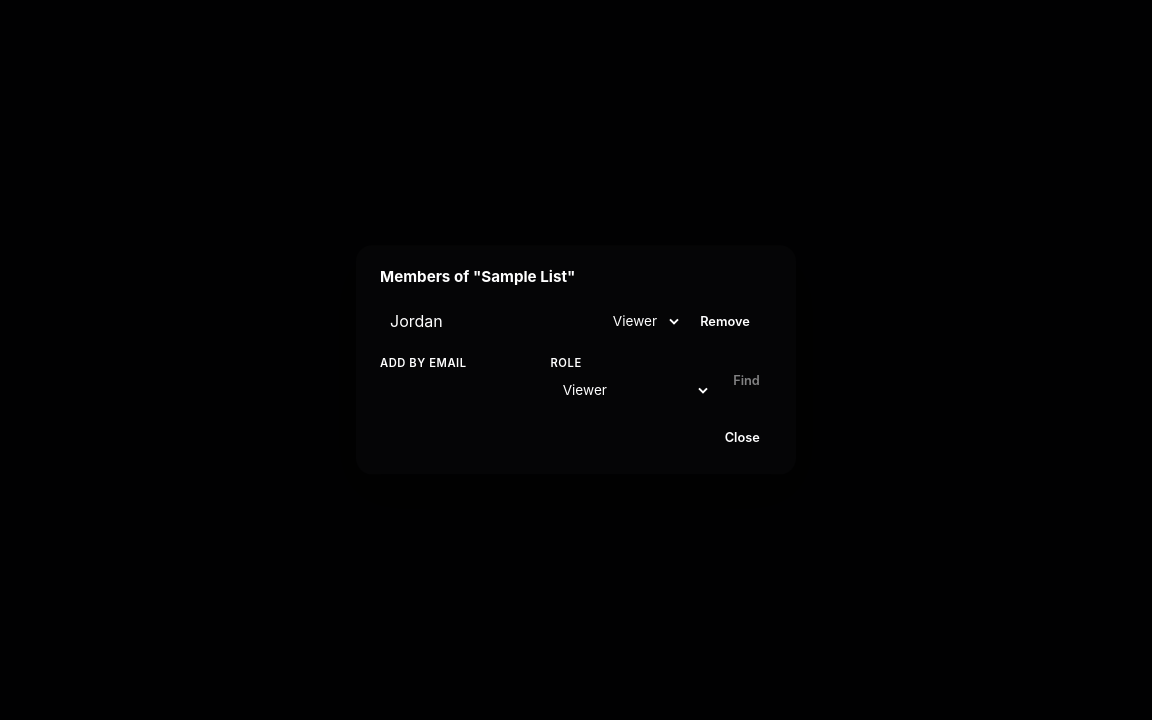
Test: ManageMembersDialog › shows a server error on a denied role change
Select "Editor" in the dropdown named "Role for Jordan" at (641, 322), box [601,306,682,337]
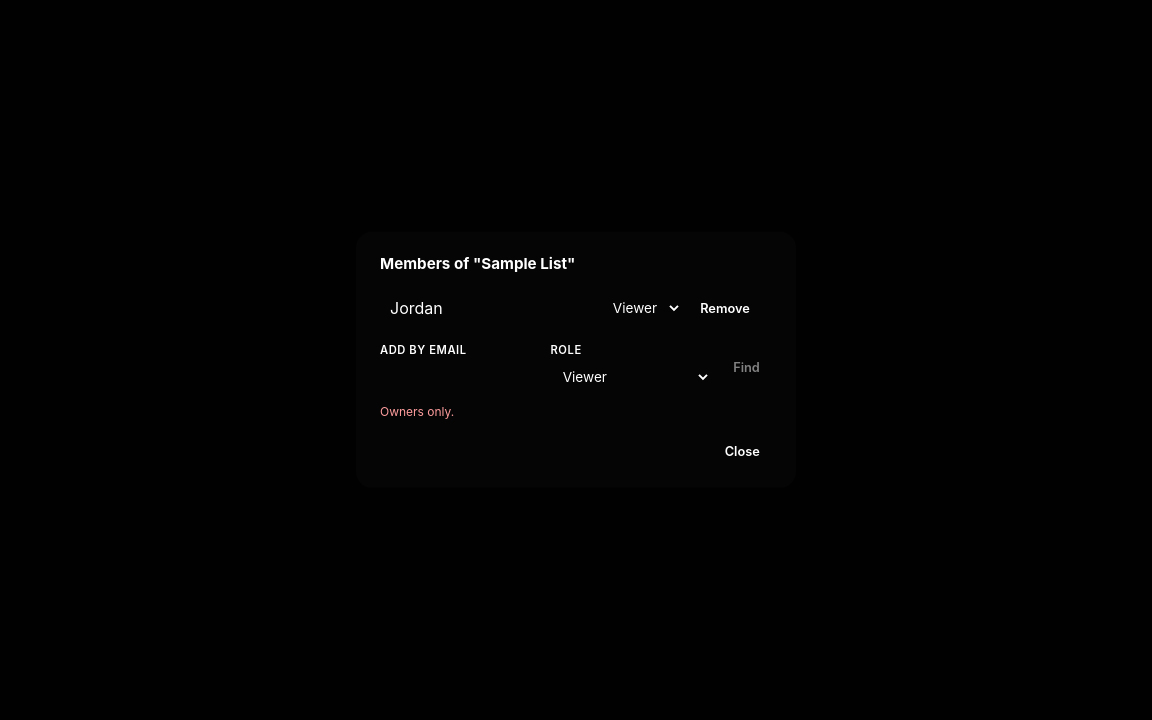
Now the text "Owners only." is shown, box [380,404,454,419]
